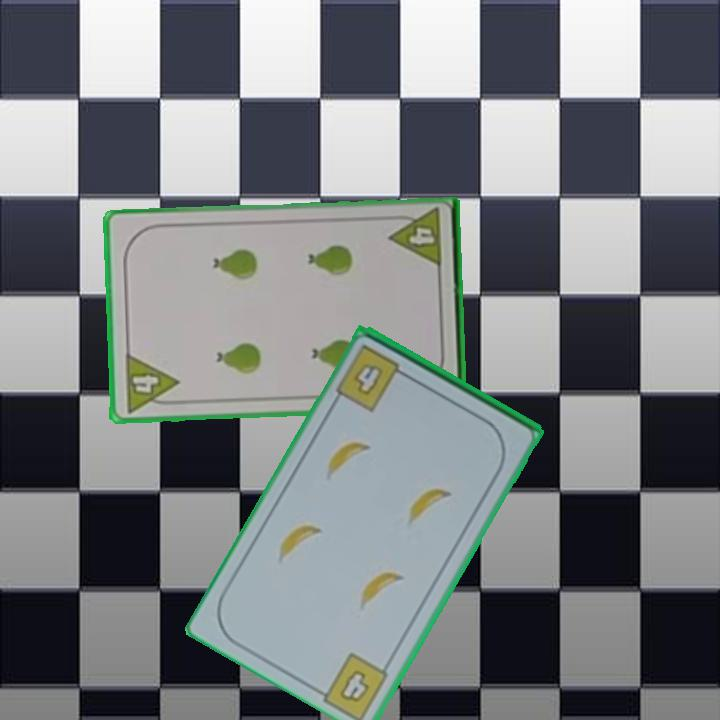4b: (332, 341, 414, 415), (336, 666, 373, 707)
4p: (121, 350, 182, 415), (386, 206, 445, 272)
